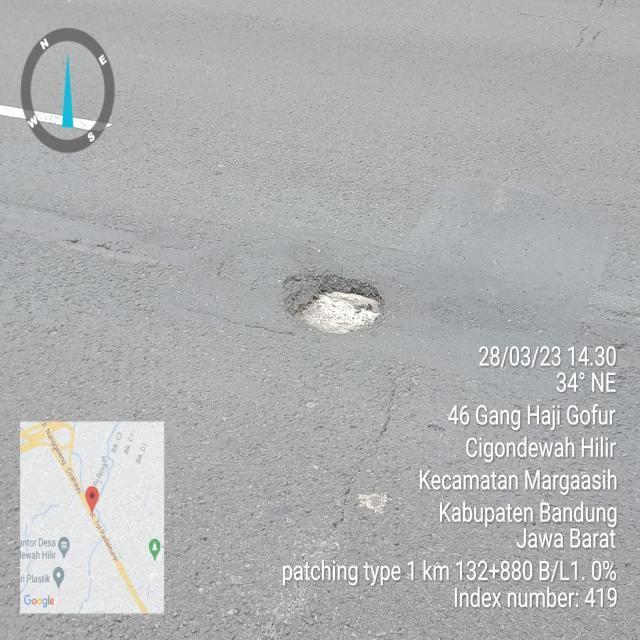Buraco: (278, 271, 389, 338)
